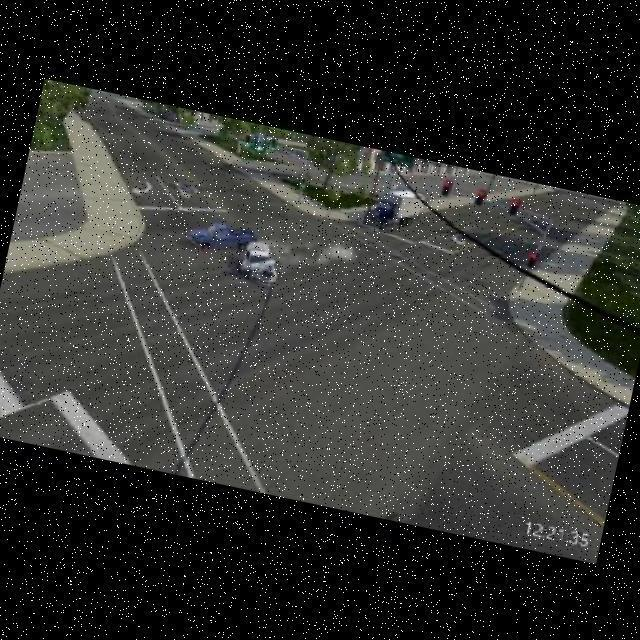accident: (242, 256, 282, 286)
